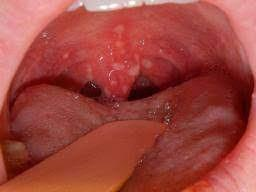Ulcer: (102, 48, 154, 76)
